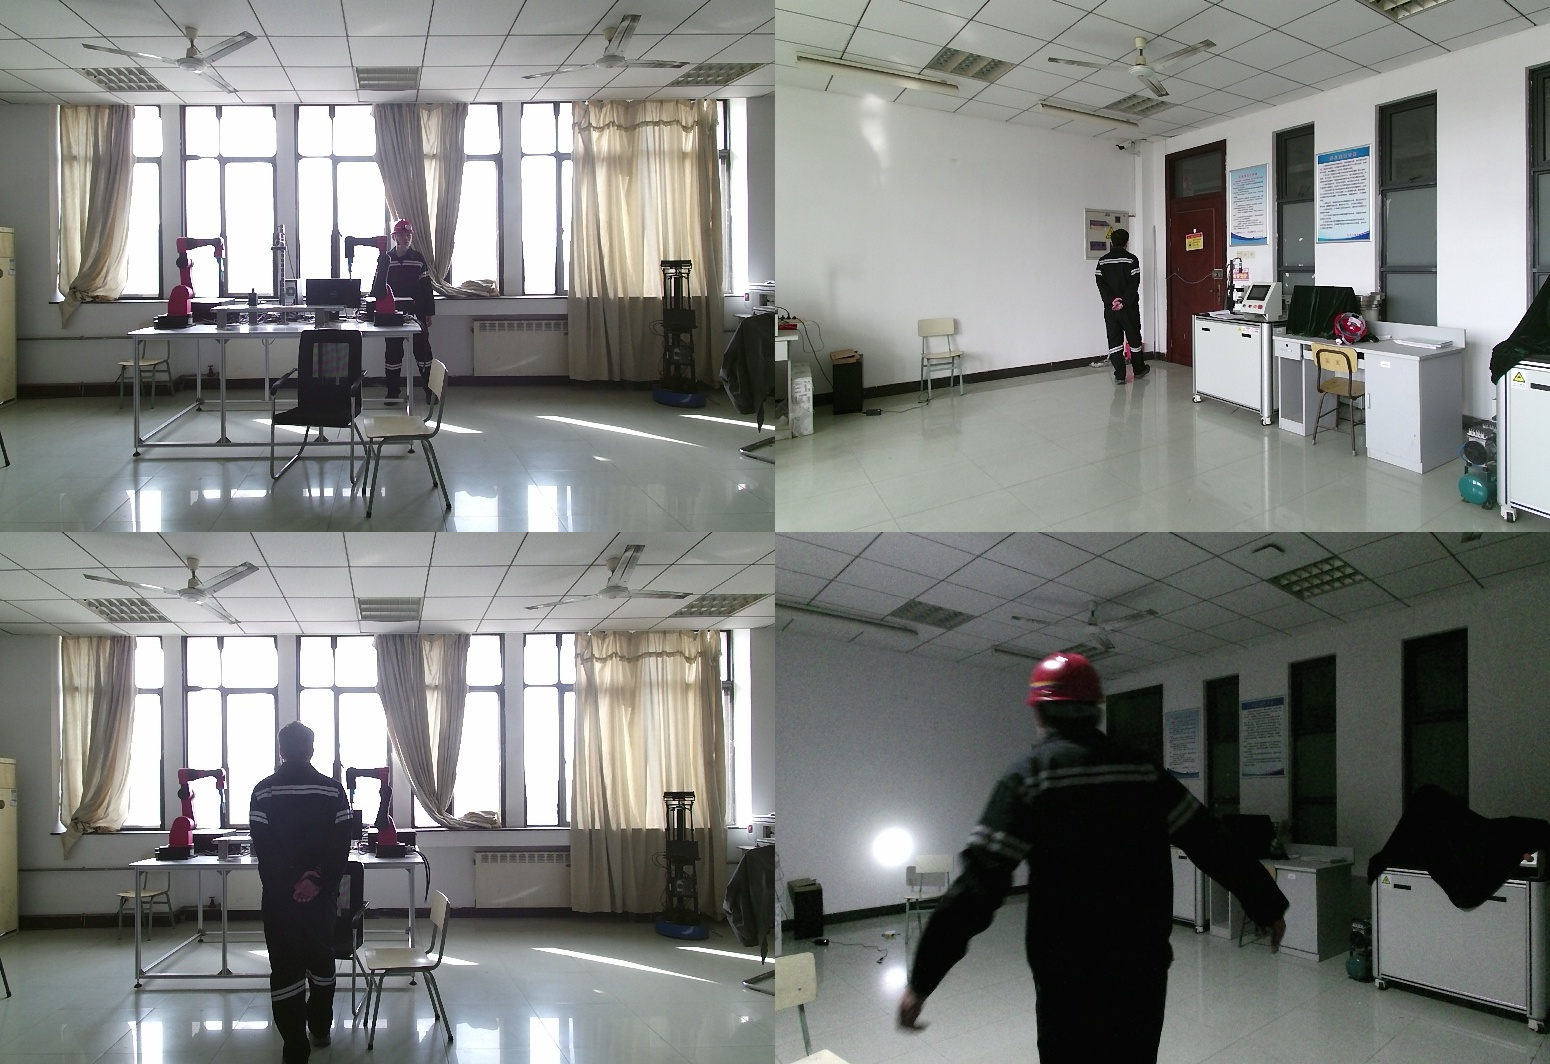person: (904, 650, 1308, 1064), (246, 724, 355, 1064), (368, 219, 437, 406), (1091, 228, 1150, 384)
